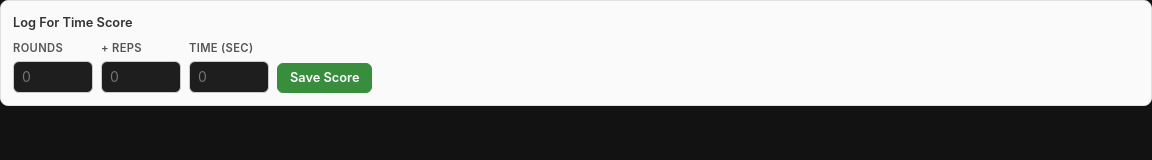
Scenario: CrossFitScoreForm › validation › shows error when total time is empty for FOR_TIME
Type "3" into the number field labelled "Rounds" at (53, 77), box [13,61,93,93]
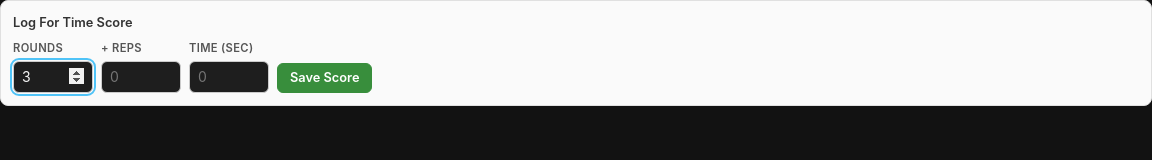
Type "5" into the number field labelled "+ Reps" at (141, 77), box [101,61,181,93]
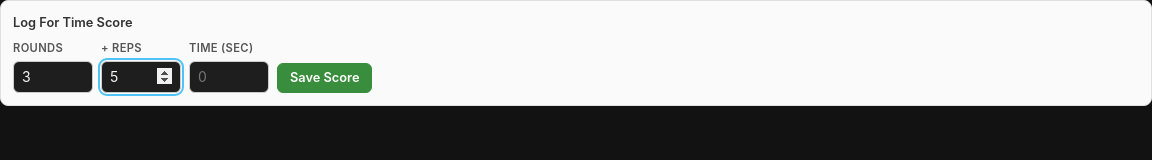
# Leave time empty
Click the button "Save Score" at (325, 78), box [277,63,372,93]
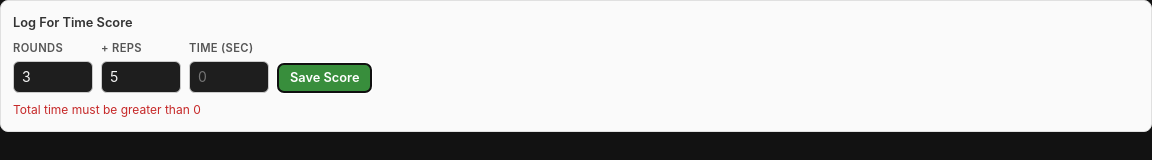
Expected: the message reads "Total time must be greater than 0", [13,102,201,117]
